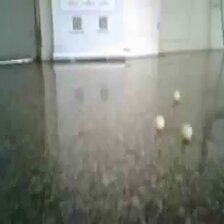tennis: (104, 117, 127, 149), (25, 89, 43, 115), (149, 81, 165, 102)
